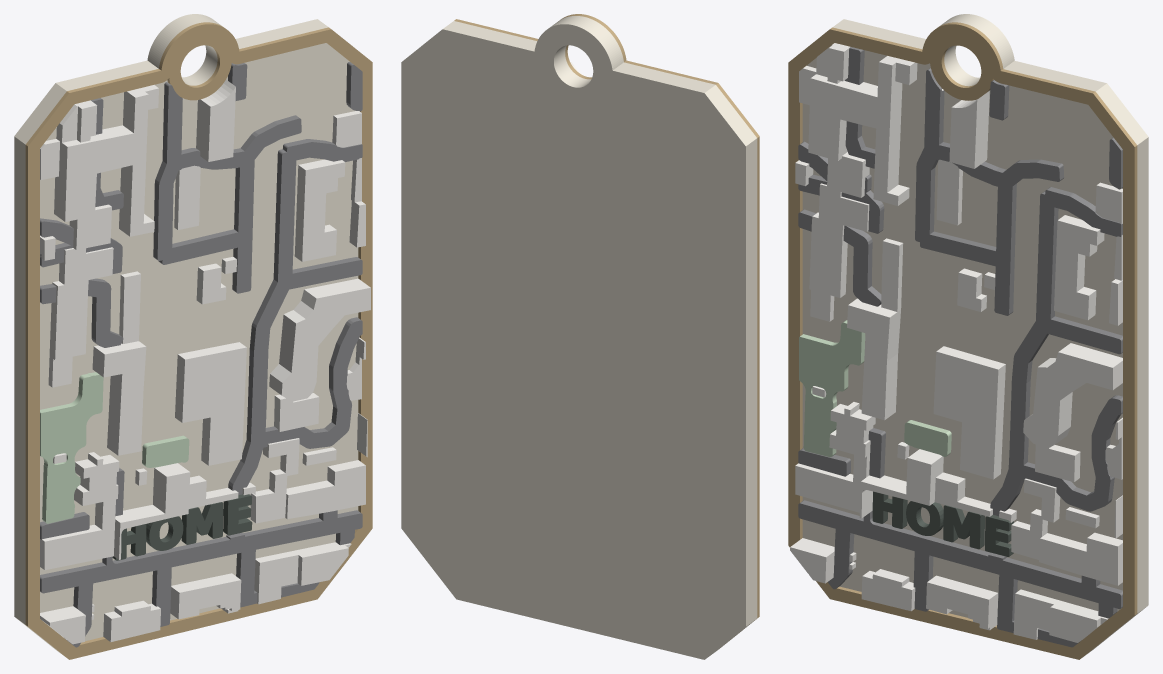
The model's file is keychain-city.glb.
The picture shows the model from 3 angles, left to right: view 1: azimuth 30°, elevation 25°; view 2: azimuth 150°, elevation 25°; view 3: azimuth 330°, elevation 25°; orthographic projection.
Visible parts, largest first — view 1: Buildings, Base, Roads, Rim, Parks, Text; view 2: Base, Rim; view 3: Buildings, Base, Roads, Rim, Parks, Text.
Part boxes in pixels (x1=…): Buildings: x1=40, y1=79, x2=370, y2=644; Base: x1=14, y1=14, x2=358, y2=655; Roads: x1=40, y1=62, x2=362, y2=647; Rim: x1=25, y1=22, x2=372, y2=659; Parks: x1=40, y1=372, x2=189, y2=523; Text: x1=112, y1=494, x2=252, y2=560; Base: x1=401, y1=16, x2=757, y2=659; Rim: x1=454, y1=14, x2=759, y2=646; Buildings: x1=790, y1=43, x2=1122, y2=642; Base: x1=802, y1=14, x2=1148, y2=655; Roads: x1=798, y1=47, x2=1122, y2=647; Rim: x1=788, y1=22, x2=1137, y2=659; Parks: x1=799, y1=320, x2=951, y2=457; Text: x1=872, y1=491, x2=1013, y2=556.
Size of the model in its own units: 35 by 58.48 by 4.2.
